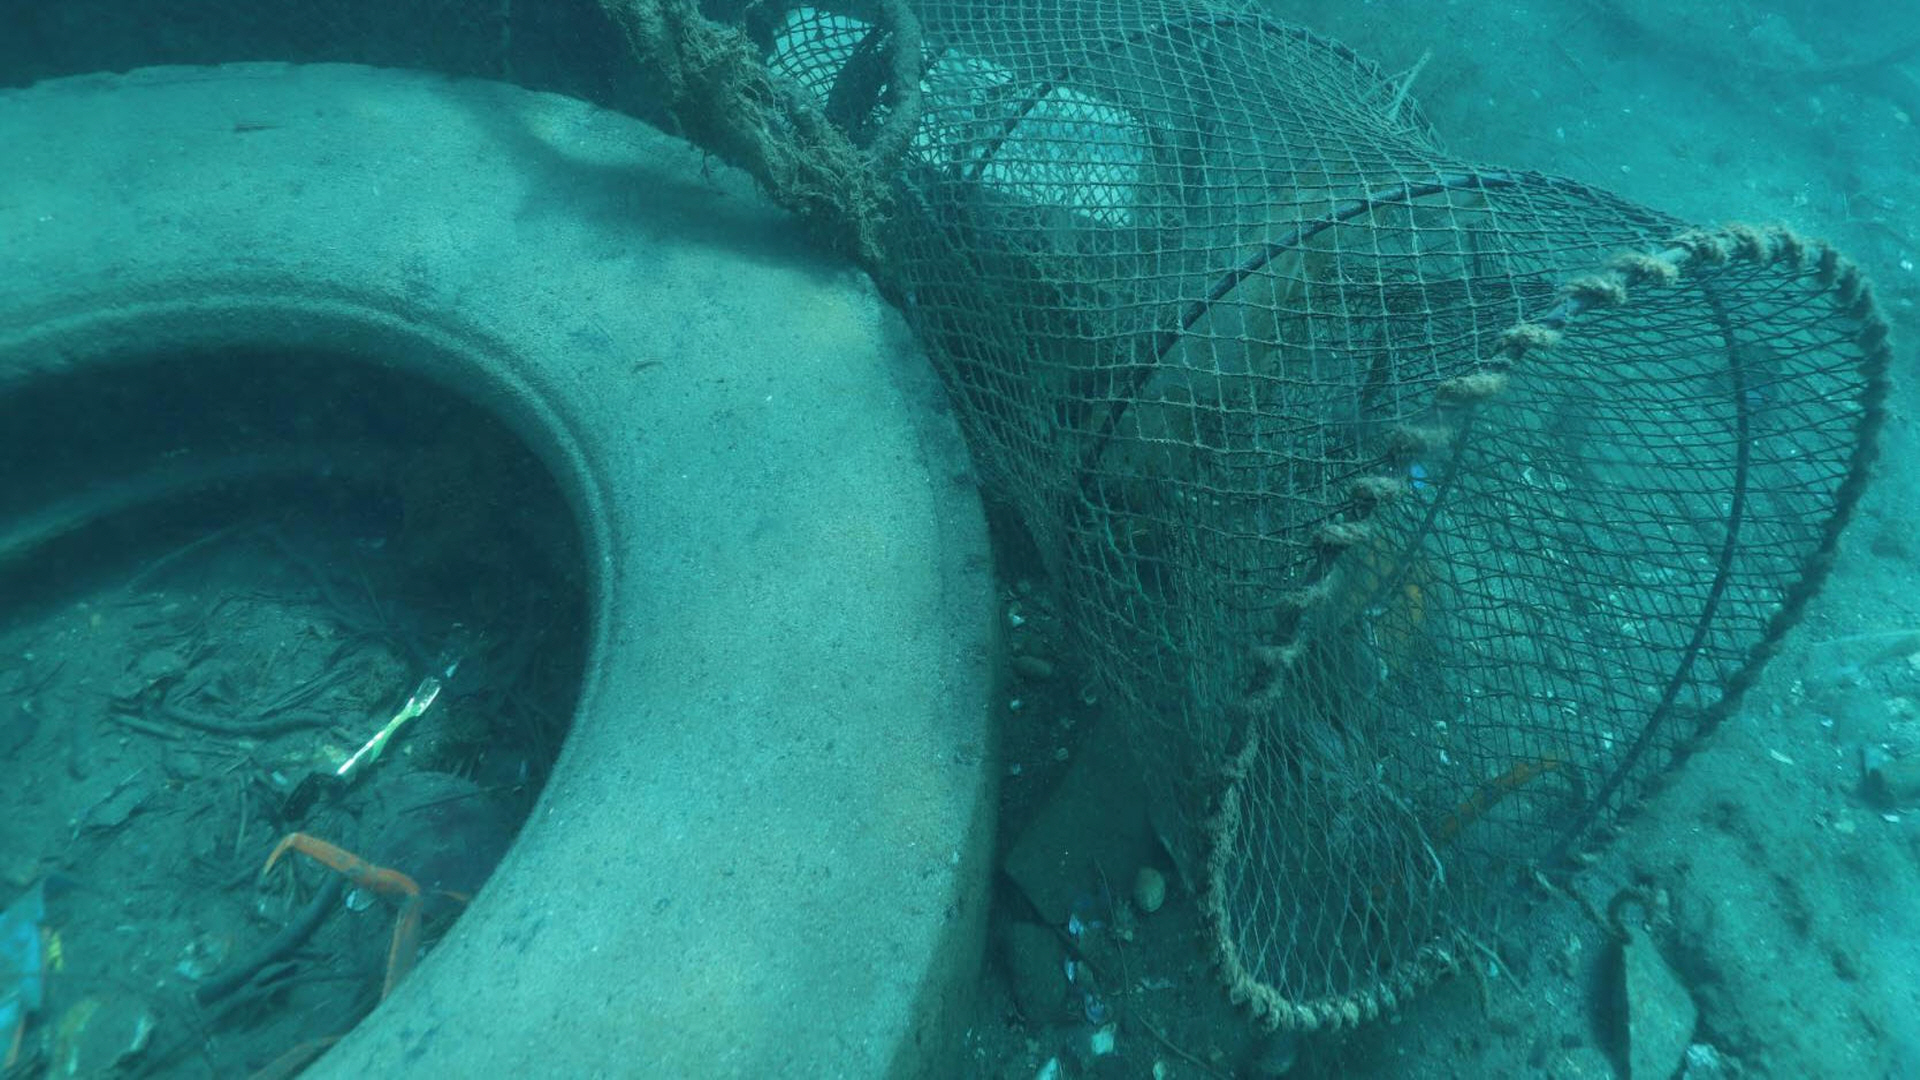spring fish trap: (692, 1, 1883, 1029)
tire: (0, 61, 998, 1080)
